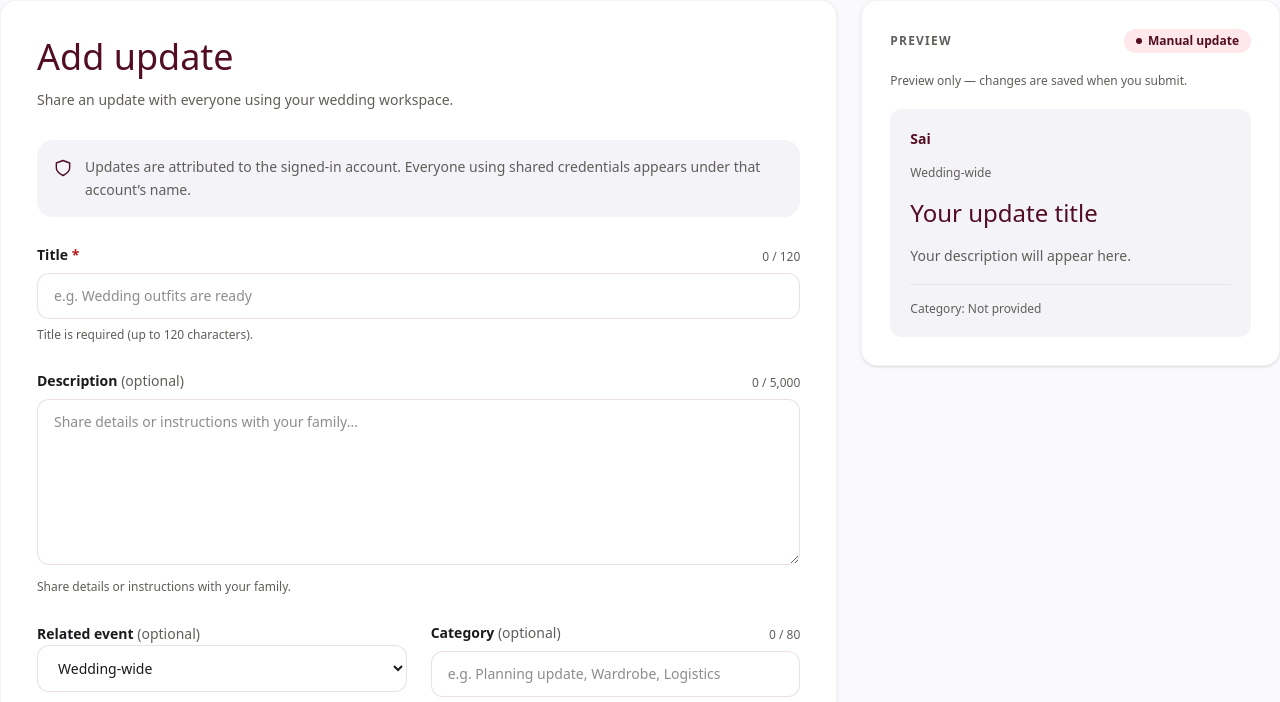
in-flight saves disable cancellation and prevent duplicate submissions
In the field labelled "Title *": (419, 296) 37,273 -> 800,319, type "Family update"
(page scrolled)
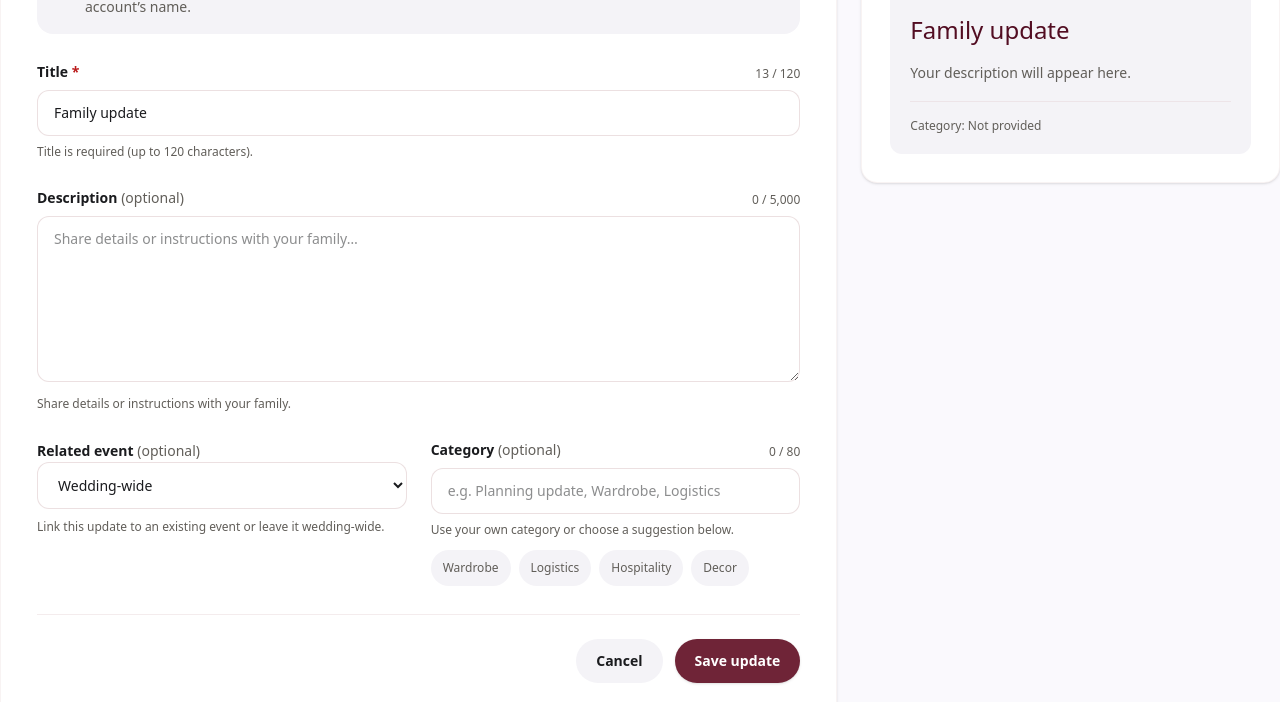
Click the button "Save update": (737, 661) 674,639 -> 800,683
(page scrolled)
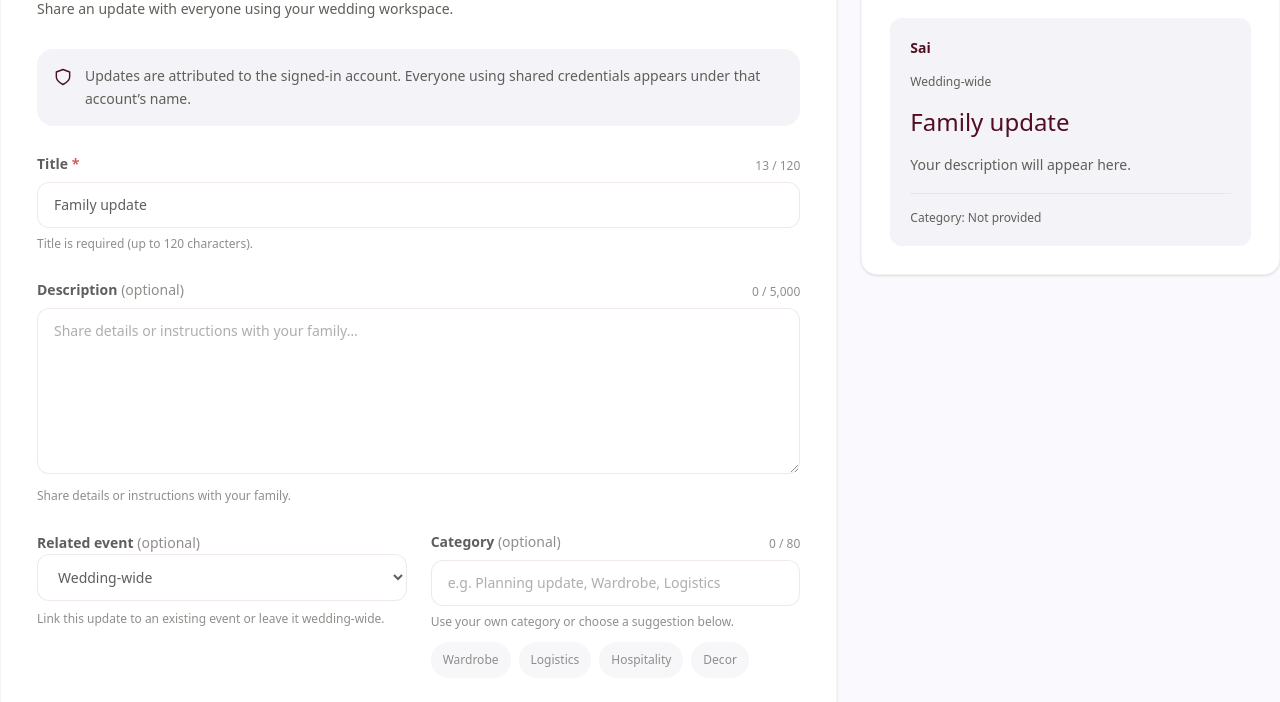
Expected: the field labelled "Title *" is disabled, 37,182 -> 800,228
Submit the form named "Saving…"
(page scrolled)
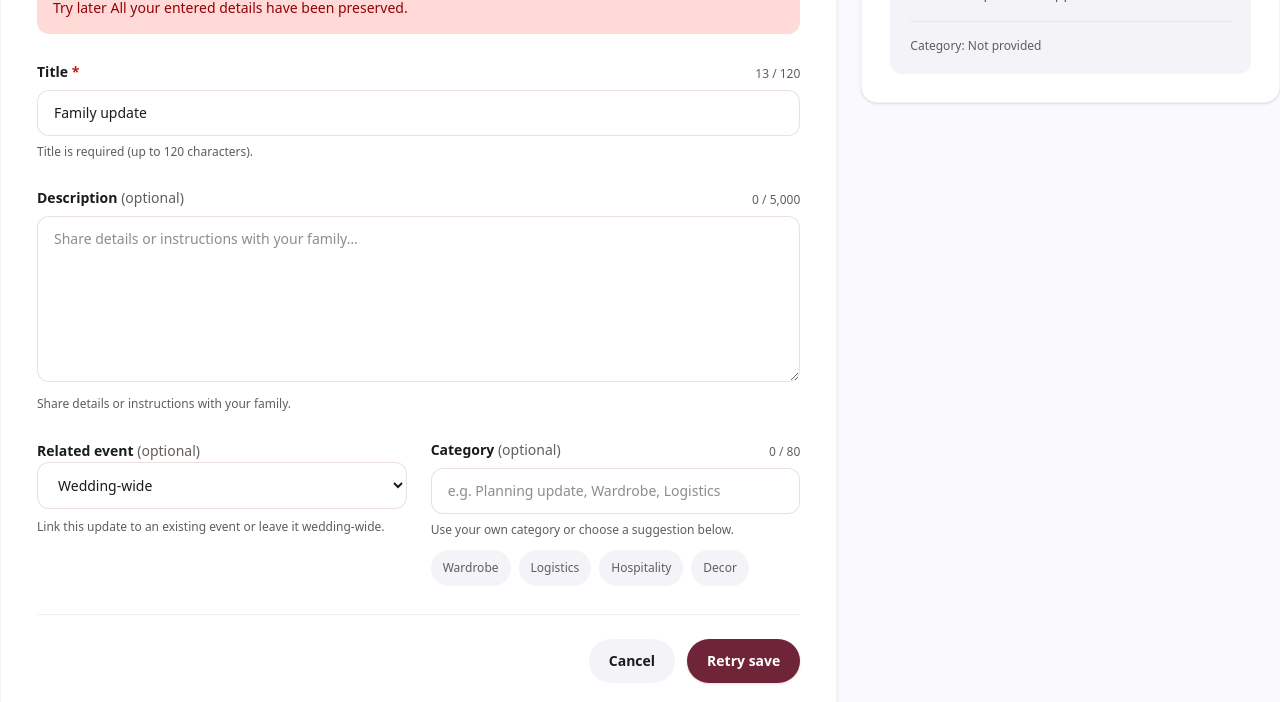
Expected: the button "Retry save" is enabled, 687,639 -> 800,683
